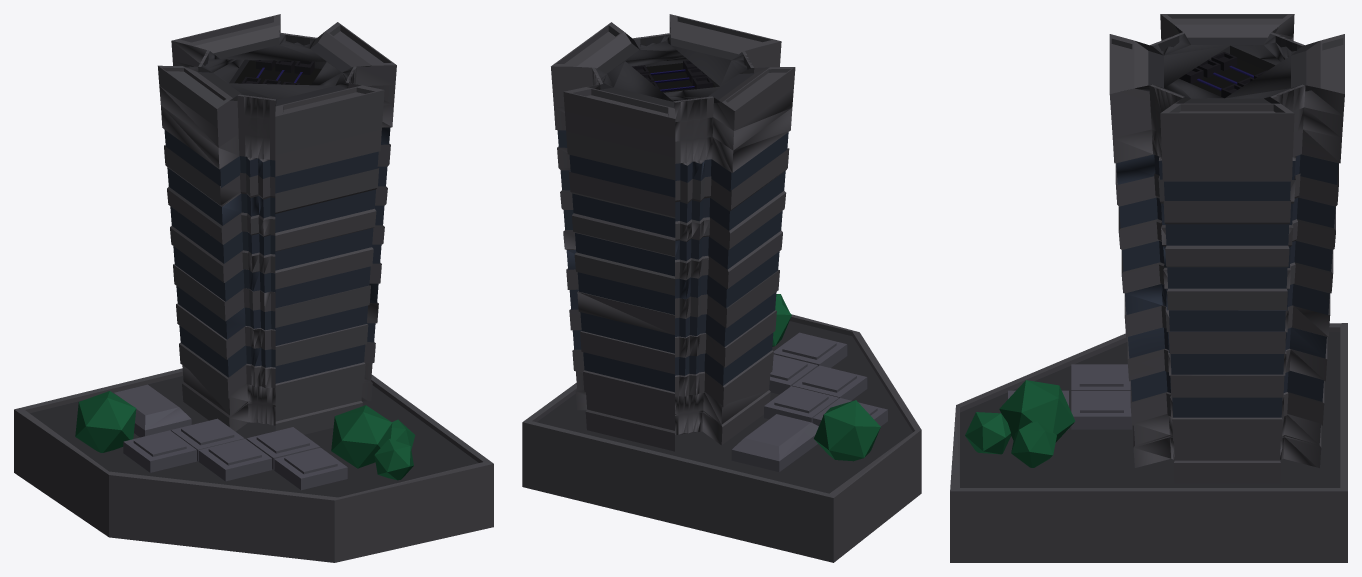
The picture shows the model from 3 angles, left to right: view 1: azimuth 30°, elevation 25°; view 2: azimuth 150°, elevation 25°; view 3: azimuth 270°, elevation 25°; orthographic projection. The views are drawn at different scales.
Parts seen in each view (by area): view 1: general_building_1; view 2: general_building_1; view 3: general_building_1.
Boxes of the visible parts, x1=… form: general_building_1: x1=14, y1=14, x2=493, y2=562; general_building_1: x1=522, y1=14, x2=921, y2=562; general_building_1: x1=950, y1=14, x2=1347, y2=562.
Bounding box in the file's own units: 3 × 3.72 × 3.
1 material, 1 textured.
